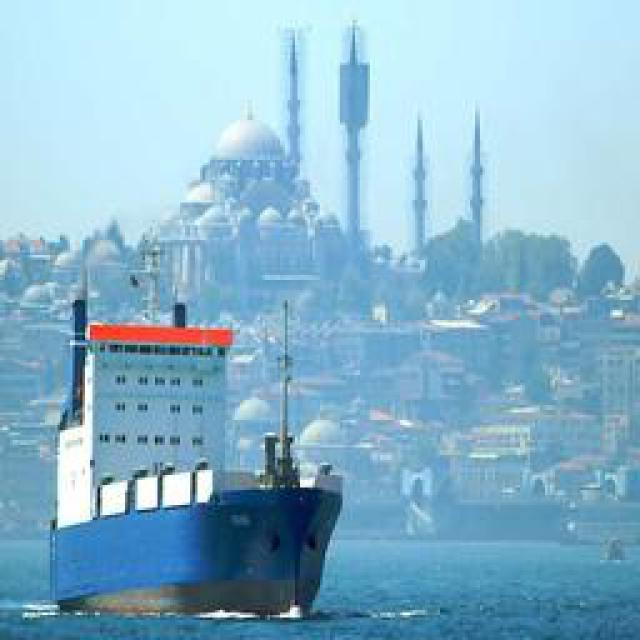Ship: (26, 251, 359, 621)
